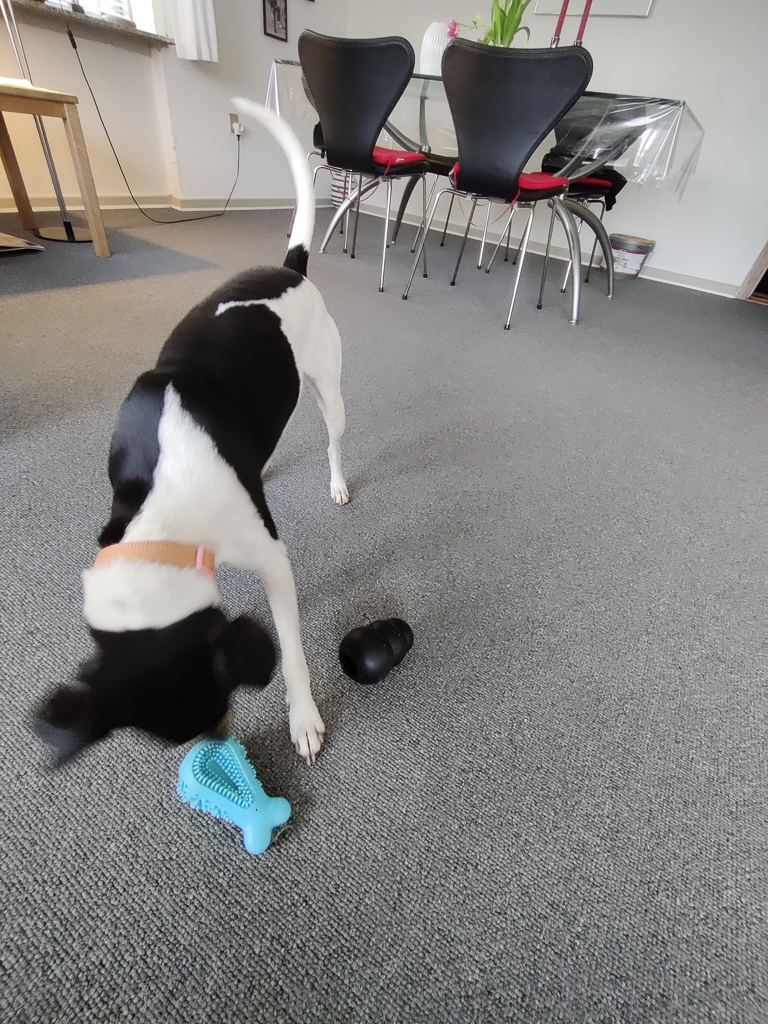Dog: (19, 84, 363, 803)
